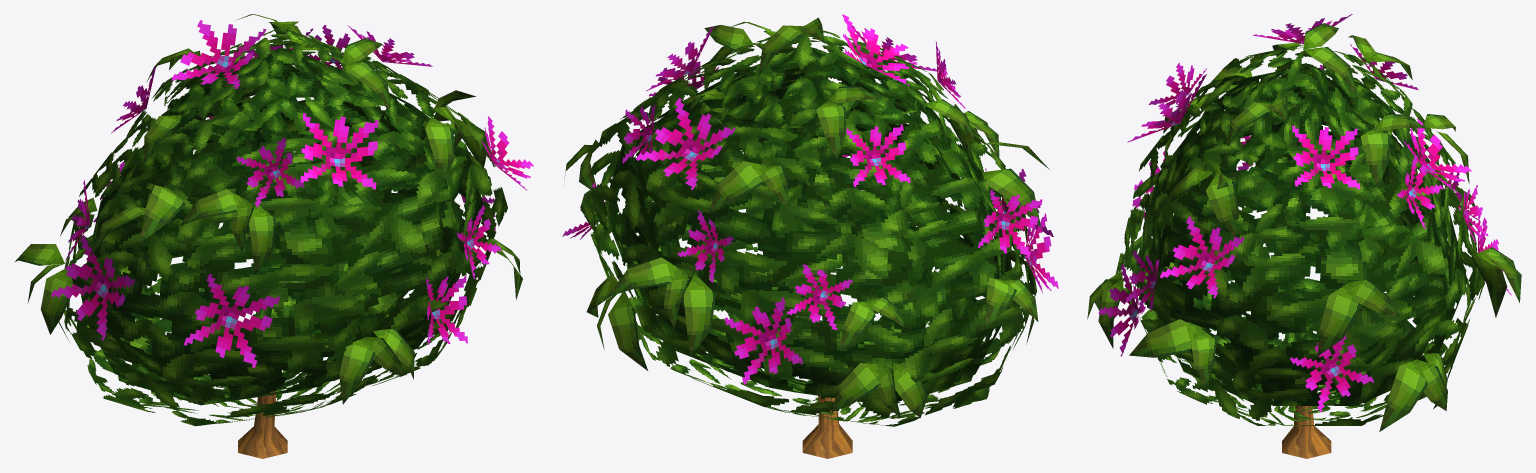
Rendered from INST_HTOWN_SHRUB3.fbx.
The picture shows the model from 3 angles, left to right: view 1: azimuth 30°, elevation 25°; view 2: azimuth 150°, elevation 25°; view 3: azimuth 270°, elevation 25°; orthographic projection.
Parts seen in each view (by area): view 1: INST_HTOWN_SHRUB3; view 2: INST_HTOWN_SHRUB3; view 3: INST_HTOWN_SHRUB3.
Part boxes in pixels (x1,y1,x2,y2): INST_HTOWN_SHRUB3: (15,14,533,458); INST_HTOWN_SHRUB3: (562,14,1058,458); INST_HTOWN_SHRUB3: (1087,14,1521,458).
Size of the model in its own units: 10310 by 9104 by 8485.
Materials: 5 (5 with a texture image).
